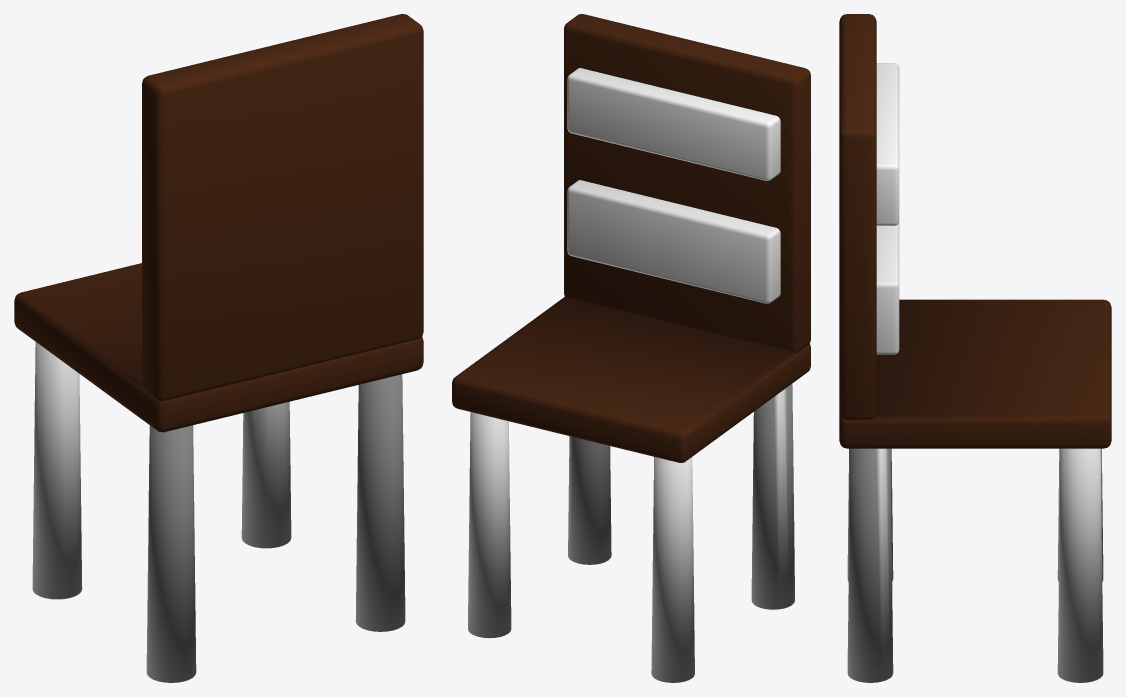
The model's file is wooden-chair.obj.
3 renders of one model, left to right at view 1: azimuth 30°, elevation 25°; view 2: azimuth 150°, elevation 25°; view 3: azimuth 270°, elevation 25°, orthographic. The views are drawn at different scales.
Parts seen in each view (by area): view 1: wooden-chair; view 2: wooden-chair; view 3: wooden-chair.
Part boxes in pixels (box(x1,y1,x2,y2)): wooden-chair: box(14, 14, 423, 682); wooden-chair: box(452, 14, 810, 682); wooden-chair: box(839, 14, 1111, 682).
Size of the model in its own units: 0.46 by 0.99 by 0.44.
